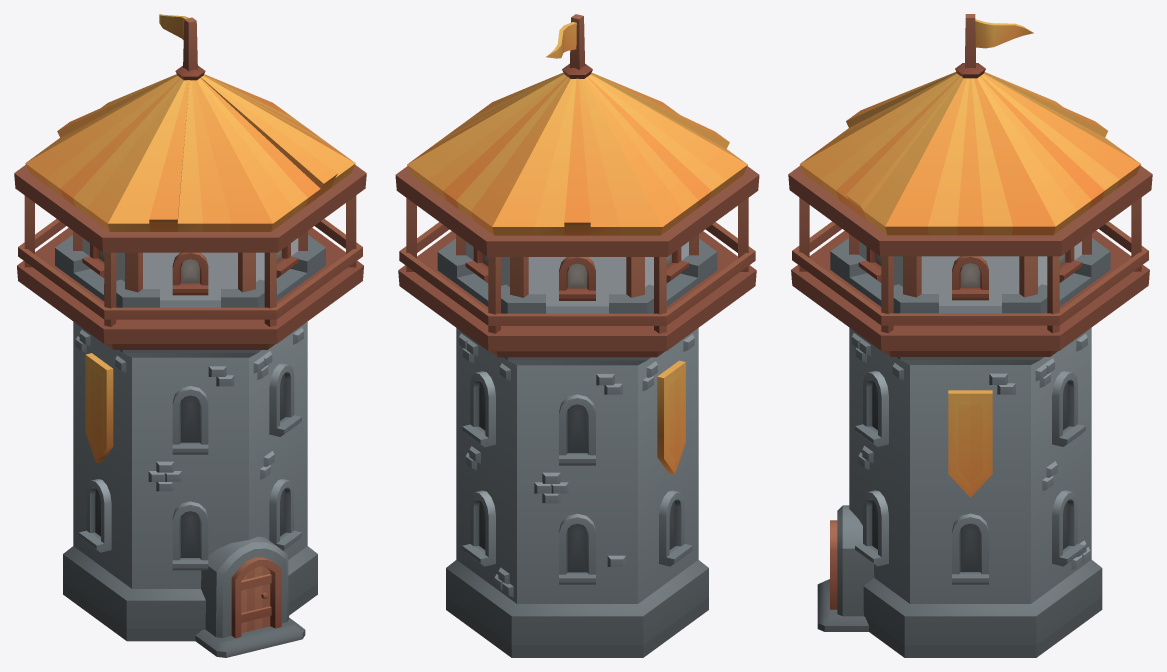
File: building_tower_B_yellow.gltf
The picture shows the model from 3 angles, left to right: view 1: azimuth 30°, elevation 25°; view 2: azimuth 150°, elevation 25°; view 3: azimuth 270°, elevation 25°; orthographic projection. The views are drawn at different scales.
Visible parts, largest first — view 1: building_tower_B_yellow, building_tower_B_top_yellow; view 2: building_tower_B_yellow, building_tower_B_top_yellow; view 3: building_tower_B_yellow, building_tower_B_top_yellow.
Part boxes in pixels (bbox=[...]): building_tower_B_yellow: bbox=[55, 235, 325, 657]; building_tower_B_top_yellow: bbox=[14, 14, 366, 349]; building_tower_B_yellow: bbox=[437, 238, 717, 657]; building_tower_B_top_yellow: bbox=[395, 14, 759, 357]; building_tower_B_yellow: bbox=[817, 238, 1110, 657]; building_tower_B_top_yellow: bbox=[788, 14, 1152, 356].
Bounding box in the file's own units: 1.2 × 2.49 × 1.38.
Materials: 1 (1 with a texture image).
